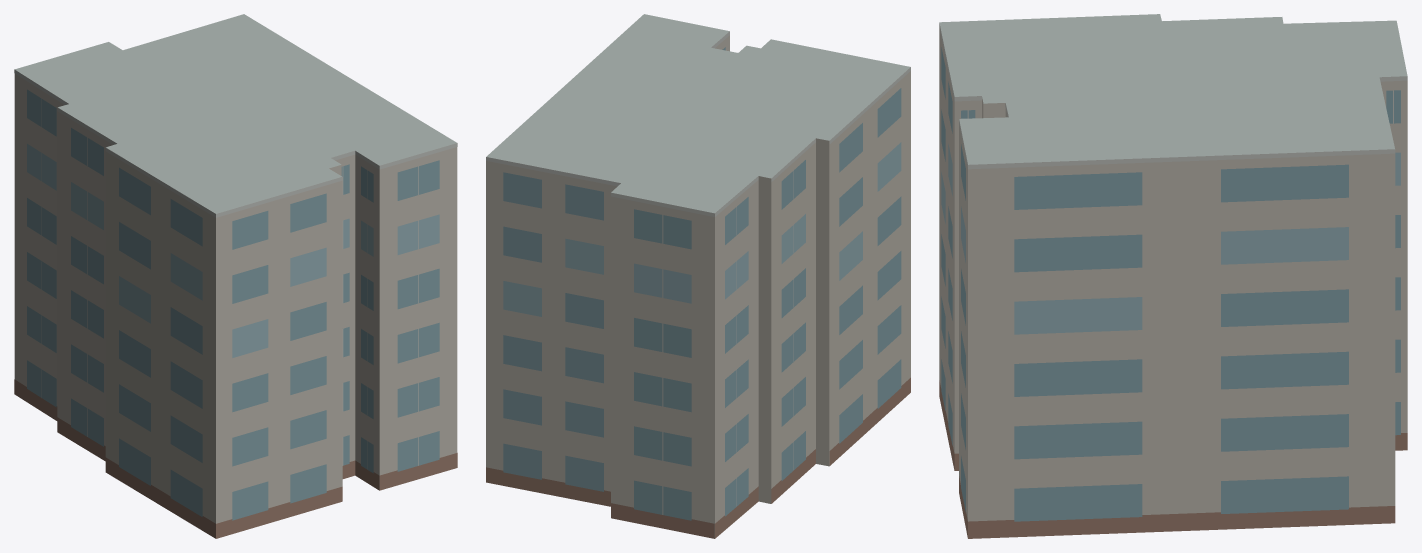
Rendered from survey-upis-32930098.glb.
3 renders of one model, left to right at view 1: azimuth 30°, elevation 25°; view 2: azimuth 150°, elevation 25°; view 3: azimuth 270°, elevation 25°, orthographic. The views are drawn at different scales.
Parts seen in each view (by area): view 1: survey-upis-32930098.tmp; view 2: survey-upis-32930098.tmp; view 3: survey-upis-32930098.tmp.
Part boxes in pixels (<box>): survey-upis-32930098.tmp: <box>14,14,457,538</box>; survey-upis-32930098.tmp: <box>486,14,910,538</box>; survey-upis-32930098.tmp: <box>939,14,1407,538</box>.
Size of the model in its own units: 17.74 by 20.5 by 23.27.
